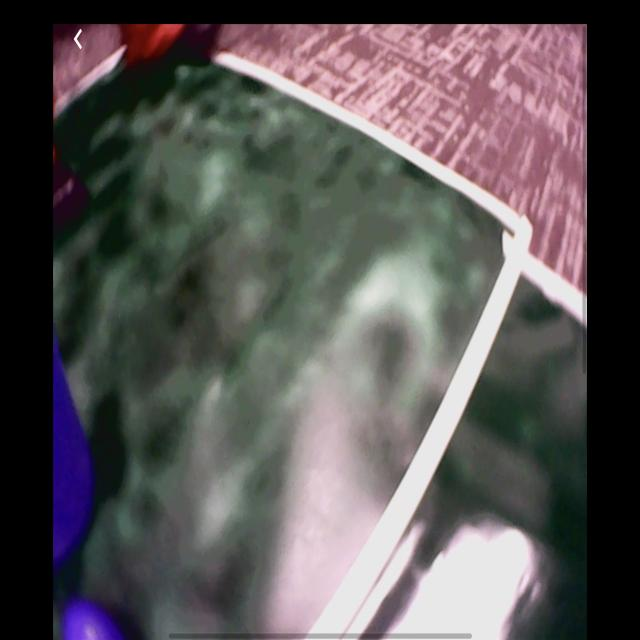ball: (59, 601, 123, 640)
